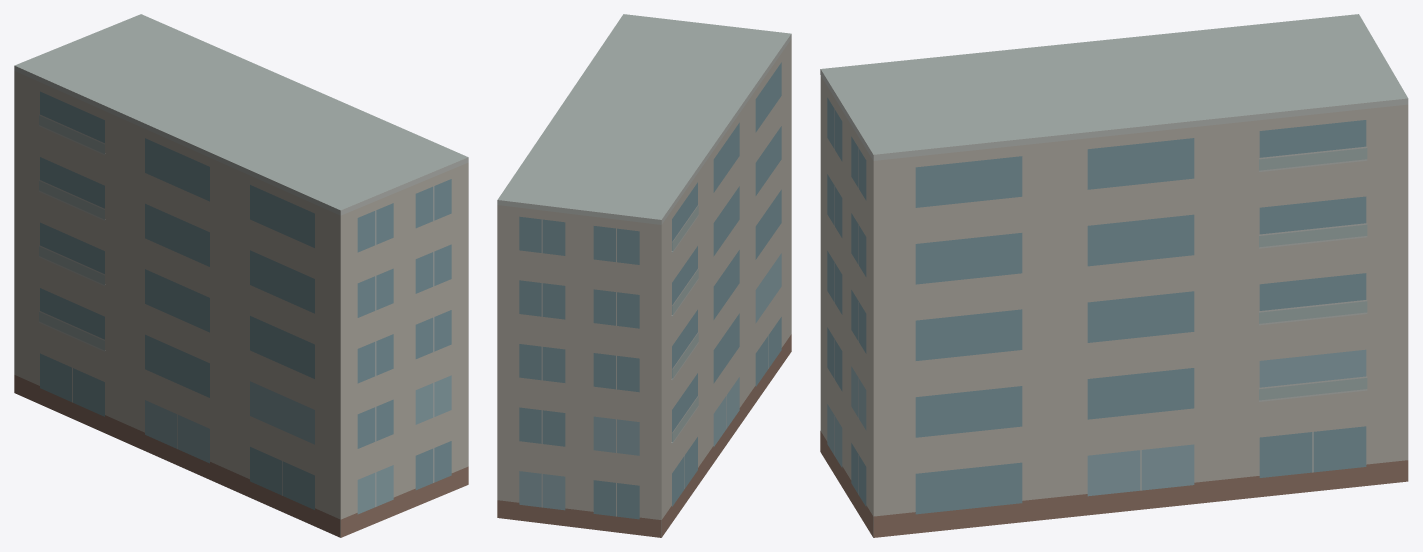
Rendered from survey-upis-32690178.glb.
3 renders of one model, left to right at view 1: azimuth 30°, elevation 25°; view 2: azimuth 150°, elevation 25°; view 3: azimuth 270°, elevation 25°, orthographic. The views are drawn at different scales.
Parts seen in each view (by area): view 1: survey-upis-32690178.tmp; view 2: survey-upis-32690178.tmp; view 3: survey-upis-32690178.tmp.
Boxes of the visible parts, bbox=[...] form: survey-upis-32690178.tmp: bbox=[14, 14, 468, 537]; survey-upis-32690178.tmp: bbox=[497, 14, 791, 537]; survey-upis-32690178.tmp: bbox=[820, 14, 1408, 537].
Bounding box in the file's own units: 12.09 × 15.32 × 21.32.
